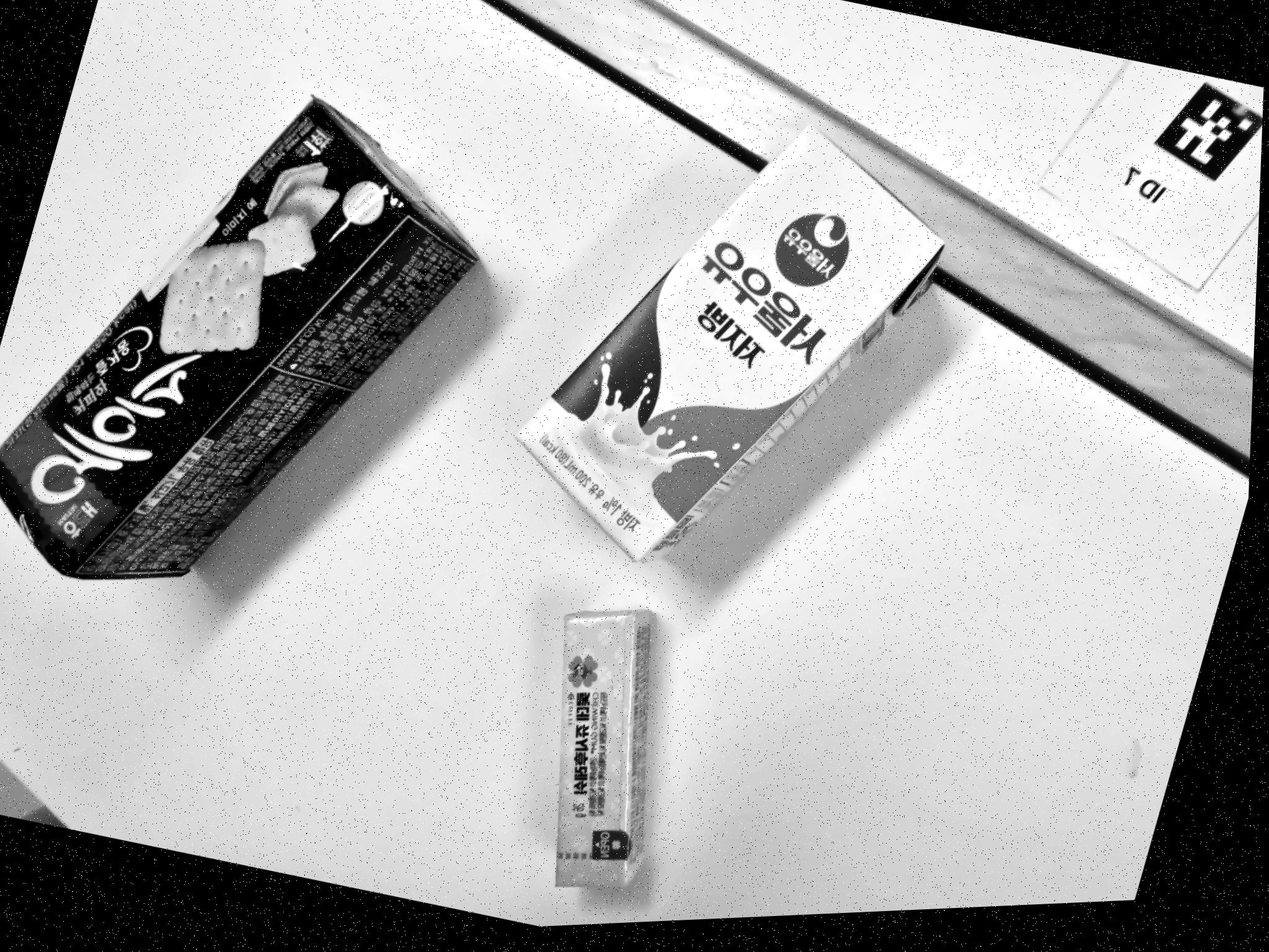cracker_ace: (0, 98, 479, 579)
cracker_vege: (519, 127, 943, 561)
gum_yellow: (556, 610, 653, 888)
